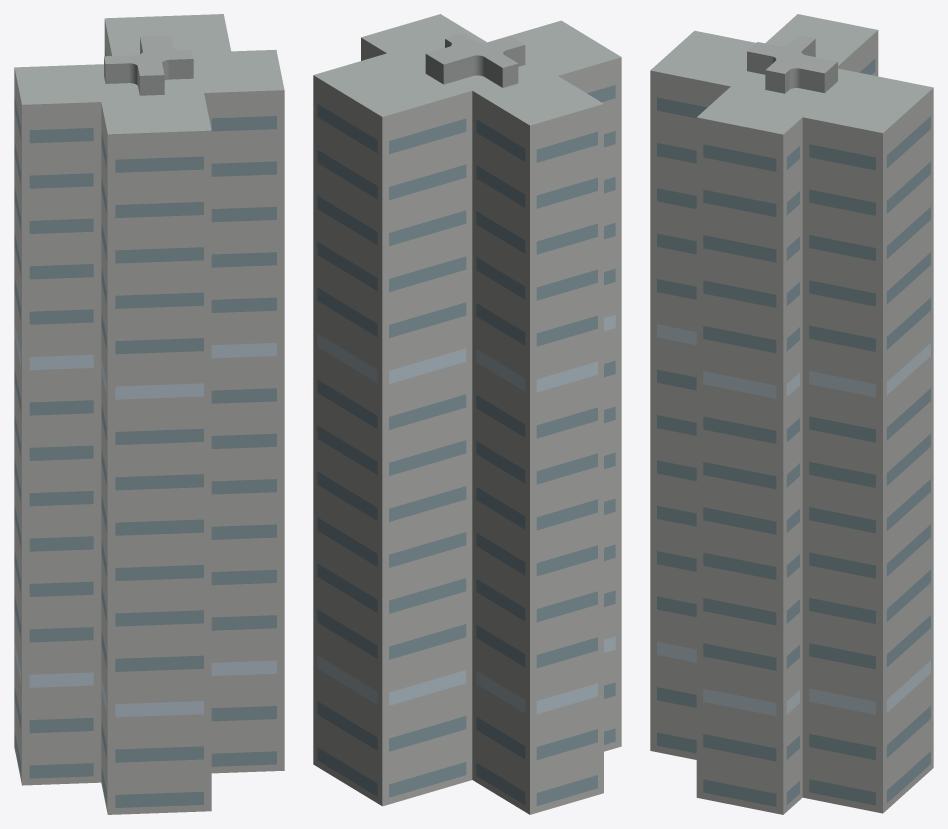
Rendered from fallback-prestige-106.glb.
3 renders of one model, left to right at view 1: azimuth 30°, elevation 25°; view 2: azimuth 150°, elevation 25°; view 3: azimuth 270°, elevation 25°, orthographic.
Visible parts, largest first — view 1: fallback-prestige-106; view 2: fallback-prestige-106; view 3: fallback-prestige-106.
Part boxes in pixels (box(x1,y1,x2,y2)): fallback-prestige-106: box(14, 14, 284, 814); fallback-prestige-106: box(313, 14, 621, 814); fallback-prestige-106: box(650, 14, 933, 814).
Size of the model in its own units: 31.4 by 85 by 31.2.
